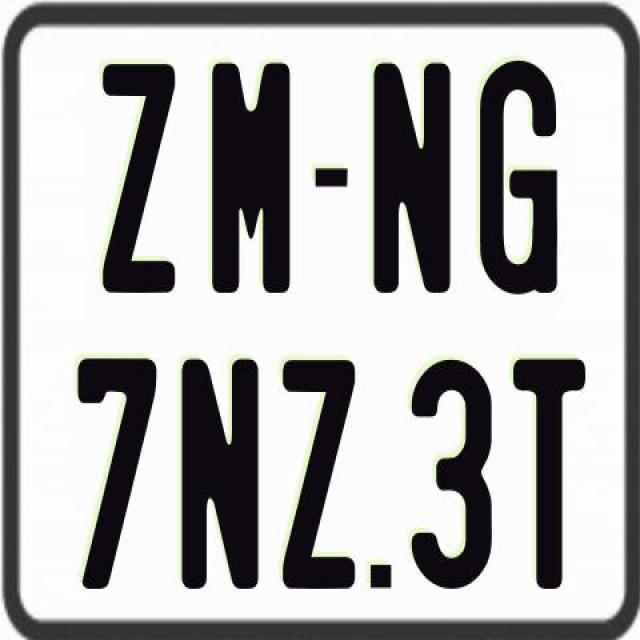3: (408, 360, 493, 589)
7: (78, 358, 158, 589)
G: (476, 58, 559, 296)
M: (208, 59, 288, 293)
N: (372, 58, 457, 298), (178, 355, 256, 592)
T: (511, 358, 586, 594)
Z: (283, 358, 362, 596), (100, 64, 178, 301)
